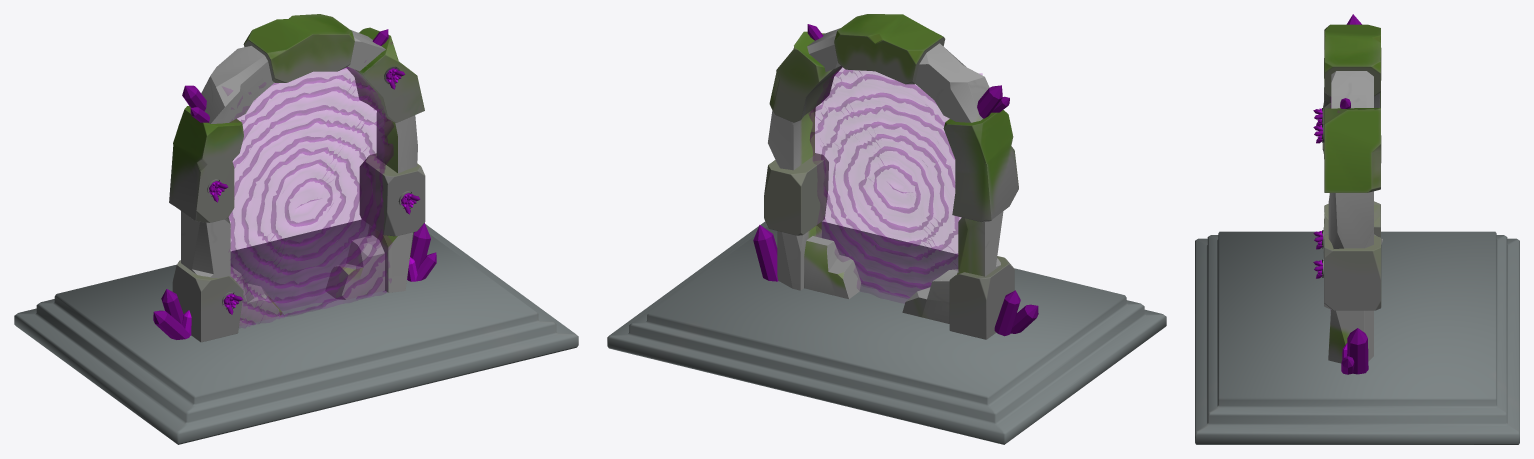
File: Portal.fbx
The picture shows the model from 3 angles, left to right: view 1: azimuth 30°, elevation 25°; view 2: azimuth 150°, elevation 25°; view 3: azimuth 270°, elevation 25°; orthographic projection.
Parts seen in each view (by area): view 1: StairBase, PortalInside, ArchOverlayRocks, RockArch, Geode1, Geode.003; view 2: StairBase, PortalInside, ArchOverlayRocks, RockArch, Geode.003, Geode.001, Geode.002; view 3: StairBase, ArchOverlayRocks, RockArch, Geode.003.
Boxes of the visible parts, x1,y1,x2,y2 form: StairBase: (14,219,578,444); PortalInside: (223,42,393,327); ArchOverlayRocks: (169,14,425,342); RockArch: (181,30,417,326); Geode1: (153,310,190,339); Geode.003: (407,223,430,279); StairBase: (607,221,1166,444); PortalInside: (808,66,982,303); ArchOverlayRocks: (764,14,1018,339); RockArch: (768,28,1003,323); Geode.003: (753,225,778,281); Geode.001: (994,290,1020,336); Geode.002: (977,85,1002,118); StairBase: (1195,231,1519,444); ArchOverlayRocks: (1322,24,1381,310); RockArch: (1328,71,1382,363); Geode.003: (1347,328,1368,374).
Bounding box in the file's own units: 566 × 423 × 399.
8 materials, 3 textured.
